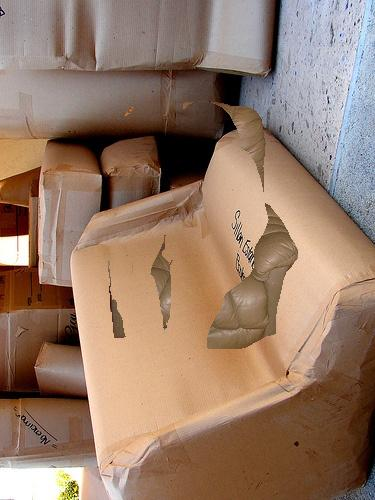tampered: (109, 102, 298, 349)
